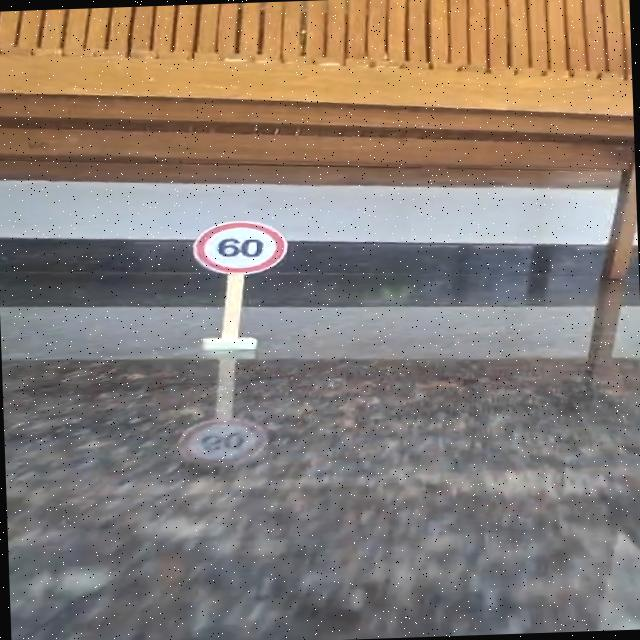Speed60: (189, 217, 292, 278)
